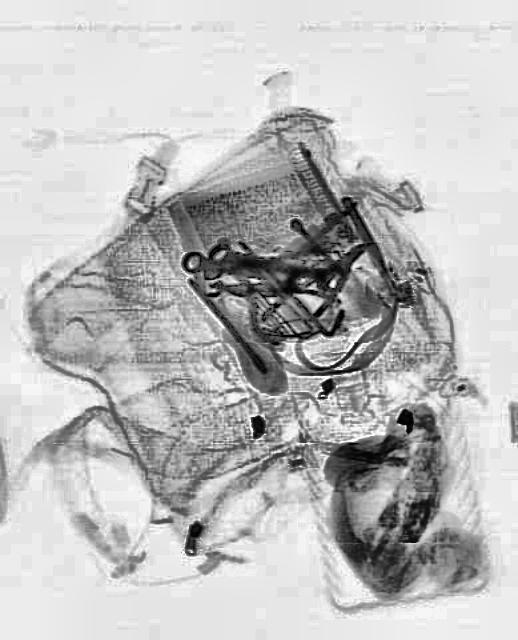Wrench: (180, 240, 348, 294)
